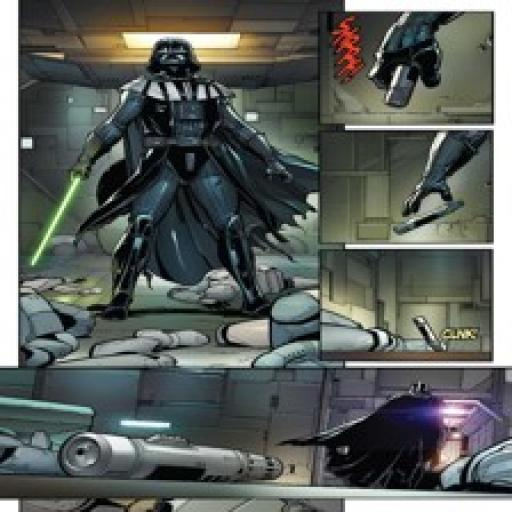human: (73, 36, 293, 328)
lightsaber: (30, 155, 94, 278)
